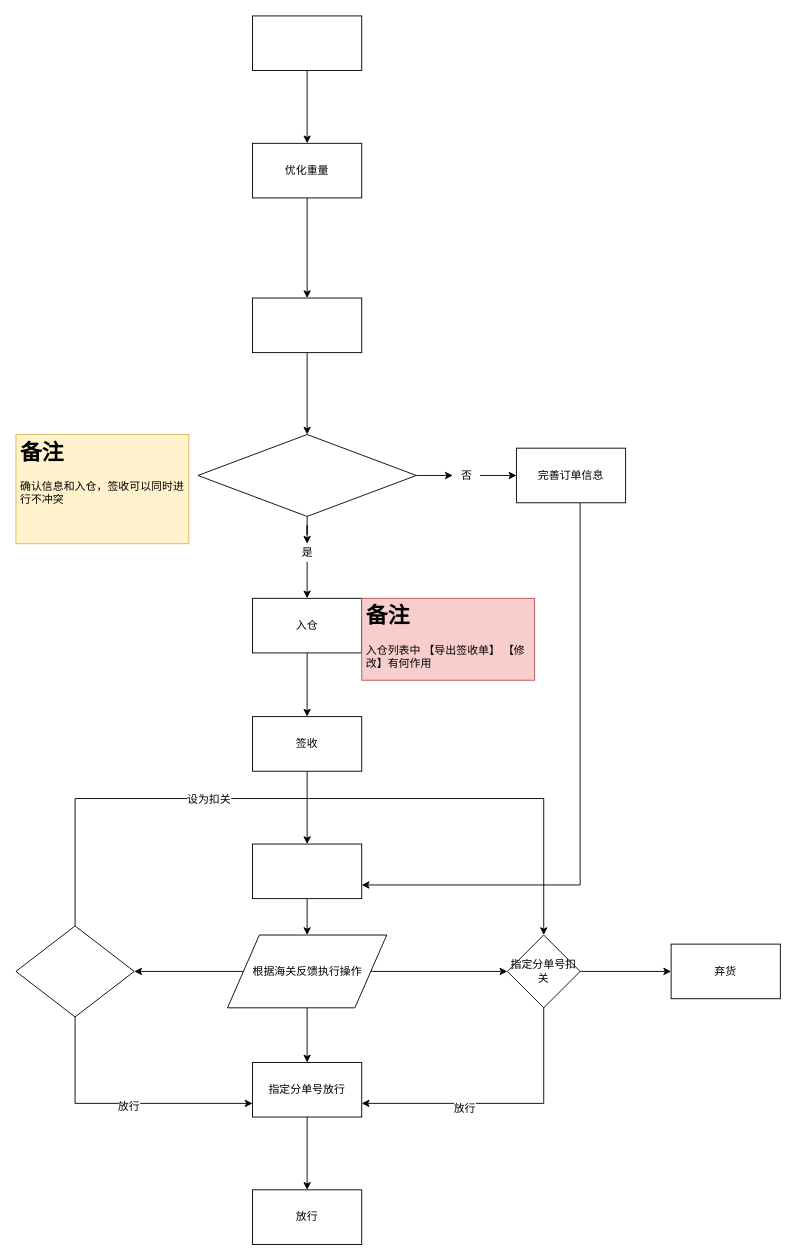
Some shapes in this 796 by 1260 pixel diagram are drawn without their labels. The shapes that lost their labels are listed below. From the top down, each one's box as (x1, y1, x2, y2) in pixels, then its label:
(252, 15, 362, 71): 导入订单
(252, 297, 362, 353): 校验信息
(197, 434, 416, 516): 确认商品信息是否符合 申报类型（商业快件）
(252, 843, 362, 899): 申报导出，提交海关
(15, 925, 134, 1017): 指定分单号查验
